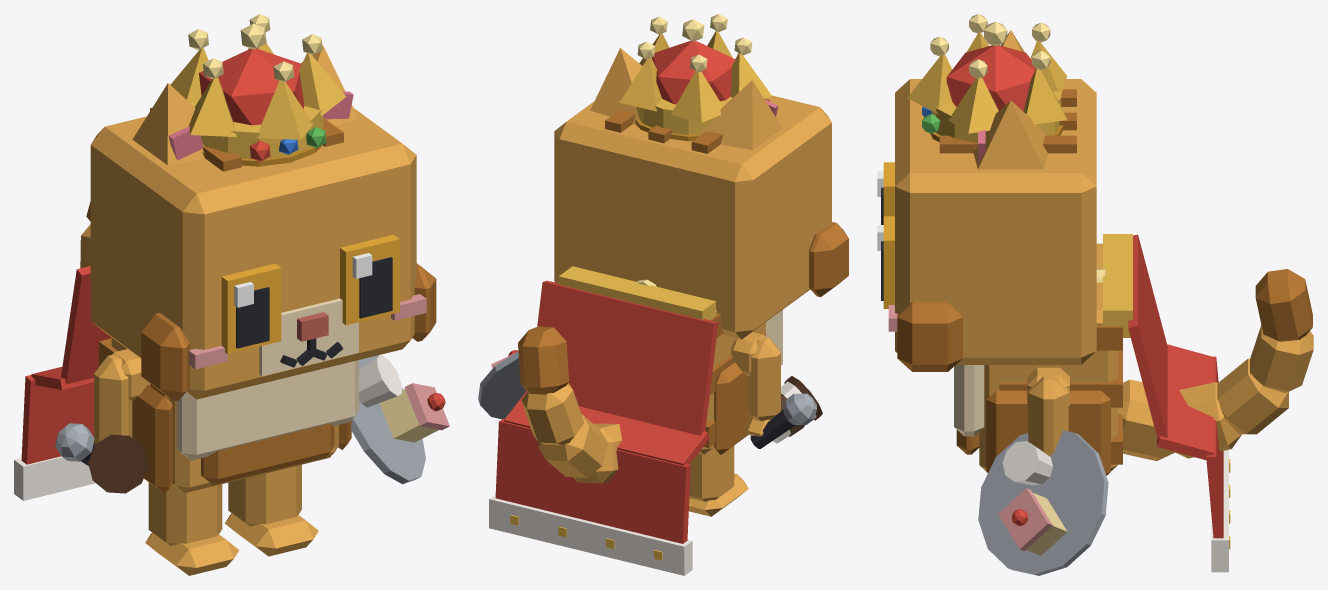
Rendered from CatCafe_Cat_KingCroissant_Work.glb.
3 renders of one model, left to right at view 1: azimuth 30°, elevation 25°; view 2: azimuth 150°, elevation 25°; view 3: azimuth 270°, elevation 25°, orthographic. The views are drawn at different scales.
Visible parts, largest first — view 1: CatCafe_Cat_KingCroissant_Work_Head, CatCafe_Cat_KingCroissant_Work_Body, CatCafe_Cat_KingCroissant_Work_Prop, CatCafe_Cat_KingCroissant_Work_Prop2, CatCafe_Cat_KingCroissant_Work_Held_Waiter, CatCafe_Cat_KingCroissant_Work_LegB2, CatCafe_Cat_KingCroissant_Work_LegB1, CatCafe_Cat_KingCroissant_Work_Eye2, CatCafe_Cat_KingCroissant_Work_Eye1, CatCafe_Cat_KingCroissant_Work_EarR, CatCafe_Cat_KingCroissant_Work_LegF2, CatCafe_Cat_KingCroissant_Work_Held_Barista (+3 smaller); view 2: CatCafe_Cat_KingCroissant_Work_Head, CatCafe_Cat_KingCroissant_Work_Prop2, CatCafe_Cat_KingCroissant_Work_Prop, CatCafe_Cat_KingCroissant_Work_Tail, CatCafe_Cat_KingCroissant_Work_CapeTrim, CatCafe_Cat_KingCroissant_Work_Body, CatCafe_Cat_KingCroissant_Work_EarR, CatCafe_Cat_KingCroissant_Work_LegB2, CatCafe_Cat_KingCroissant_Work_LegF2, CatCafe_Cat_KingCroissant_Work_Held_Waiter, CatCafe_Cat_KingCroissant_Work_EarL, CatCafe_Cat_KingCroissant_Work_Held_Entertainer (+1 smaller); view 3: CatCafe_Cat_KingCroissant_Work_Head, CatCafe_Cat_KingCroissant_Work_Held_Waiter, CatCafe_Cat_KingCroissant_Work_Tail, CatCafe_Cat_KingCroissant_Work_Body, CatCafe_Cat_KingCroissant_Work_Prop2, CatCafe_Cat_KingCroissant_Work_Prop, CatCafe_Cat_KingCroissant_Work_EarL, CatCafe_Cat_KingCroissant_Work_LegF1, CatCafe_Cat_KingCroissant_Work_Eye1, CatCafe_Cat_KingCroissant_Work_CapeTrim, CatCafe_Cat_KingCroissant_Work_Eye2.
Boxes of the visible parts, x1=… form: CatCafe_Cat_KingCroissant_Work_Head: x1=90, y1=107, x2=436, y2=401; CatCafe_Cat_KingCroissant_Work_Body: x1=99, y1=338, x2=358, y2=493; CatCafe_Cat_KingCroissant_Work_Prop: x1=170, y1=14, x2=345, y2=166; CatCafe_Cat_KingCroissant_Work_Prop2: x1=21, y1=266, x2=111, y2=464; CatCafe_Cat_KingCroissant_Work_Held_Waiter: x1=351, y1=355, x2=449, y2=484; CatCafe_Cat_KingCroissant_Work_LegB2: x1=145, y1=482, x2=239, y2=575; CatCafe_Cat_KingCroissant_Work_LegB1: x1=225, y1=464, x2=318, y2=556; CatCafe_Cat_KingCroissant_Work_Eye2: x1=221, y1=263, x2=281, y2=354; CatCafe_Cat_KingCroissant_Work_Eye1: x1=340, y1=234, x2=399, y2=325; CatCafe_Cat_KingCroissant_Work_EarR: x1=132, y1=83, x2=204, y2=165; CatCafe_Cat_KingCroissant_Work_LegF2: x1=94, y1=354, x2=132, y2=443; CatCafe_Cat_KingCroissant_Work_Held_Barista: x1=88, y1=434, x2=148, y2=493; CatCafe_Cat_KingCroissant_Work_Head: x1=554, y1=95, x2=848, y2=339; CatCafe_Cat_KingCroissant_Work_Prop2: x1=495, y1=266, x2=718, y2=543; CatCafe_Cat_KingCroissant_Work_Prop: x1=619, y1=14, x2=771, y2=141; CatCafe_Cat_KingCroissant_Work_Tail: x1=518, y1=326, x2=621, y2=483; CatCafe_Cat_KingCroissant_Work_CapeTrim: x1=489, y1=494, x2=692, y2=575; CatCafe_Cat_KingCroissant_Work_Body: x1=698, y1=310, x2=782, y2=454; CatCafe_Cat_KingCroissant_Work_EarR: x1=699, y1=80, x2=782, y2=150; CatCafe_Cat_KingCroissant_Work_LegB2: x1=689, y1=446, x2=748, y2=516; CatCafe_Cat_KingCroissant_Work_LegF2: x1=746, y1=336, x2=780, y2=436; CatCafe_Cat_KingCroissant_Work_Held_Waiter: x1=478, y1=350, x2=526, y2=419; CatCafe_Cat_KingCroissant_Work_EarL: x1=590, y1=48, x2=642, y2=124; CatCafe_Cat_KingCroissant_Work_Held_Entertainer: x1=750, y1=393, x2=816, y2=448; CatCafe_Cat_KingCroissant_Work_Head: x1=888, y1=79, x2=1096, y2=371; CatCafe_Cat_KingCroissant_Work_Held_Waiter: x1=978, y1=430, x2=1108, y2=575; CatCafe_Cat_KingCroissant_Work_Tail: x1=1118, y1=269, x2=1313, y2=460; CatCafe_Cat_KingCroissant_Work_Body: x1=954, y1=243, x2=1122, y2=475; CatCafe_Cat_KingCroissant_Work_Prop2: x1=1096, y1=234, x2=1223, y2=538; CatCafe_Cat_KingCroissant_Work_Prop: x1=907, y1=14, x2=1067, y2=153; CatCafe_Cat_KingCroissant_Work_EarL: x1=973, y1=100, x2=1047, y2=169; CatCafe_Cat_KingCroissant_Work_LegF1: x1=1028, y1=376, x2=1068, y2=456; CatCafe_Cat_KingCroissant_Work_Eye1: x1=877, y1=216, x2=894, y2=308; CatCafe_Cat_KingCroissant_Work_CapeTrim: x1=1211, y1=449, x2=1230, y2=572; CatCafe_Cat_KingCroissant_Work_Eye2: x1=877, y1=162, x2=894, y2=224.
Bounding box in the file's own units: 2 × 2.74 × 2.14.
1 material, 1 textured.
